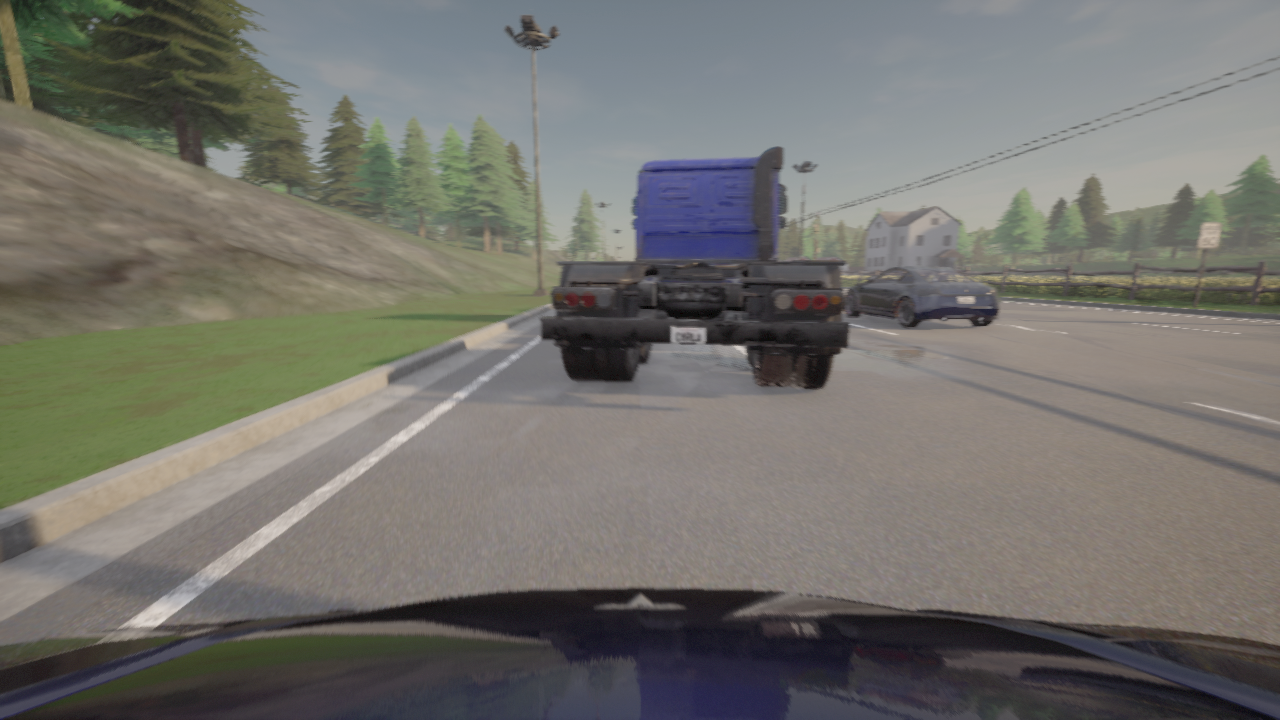cyclist: (0, 588, 1279, 719), (540, 147, 848, 388), (844, 267, 1000, 327)
